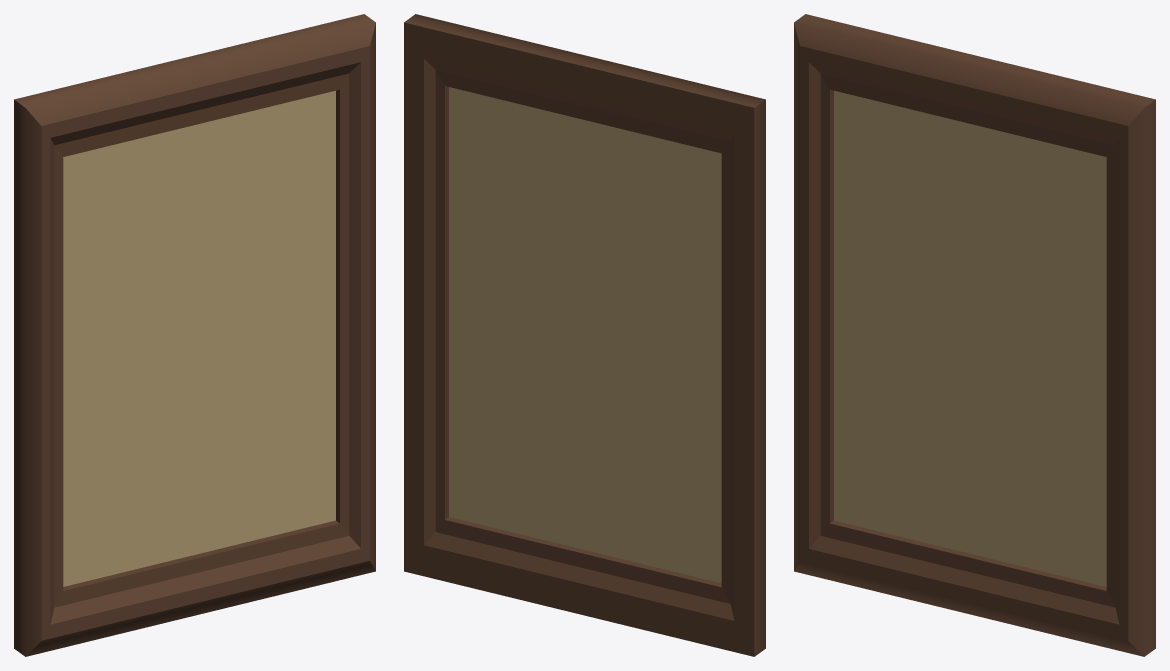
Rendered from Картина2.fbx.
3 views of the same model, side by side, from view 1: azimuth 30°, elevation 25°; view 2: azimuth 150°, elevation 25°; view 3: azimuth 330°, elevation 25° (orthographic).
Parts seen in each view (by area): view 1: Cube.001, Cube.002; view 2: Cube.001, Cube.002; view 3: Cube.001, Cube.002.
Boxes of the visible parts, x1,y1,x2,y2 form: Cube.001: (63, 90, 335, 586); Cube.002: (14, 14, 375, 656); Cube.001: (449, 87, 721, 583); Cube.002: (404, 14, 765, 656); Cube.001: (834, 90, 1106, 586); Cube.002: (794, 14, 1155, 656).
Bounding box in the file's own units: 134 × 200 × 10.93.
